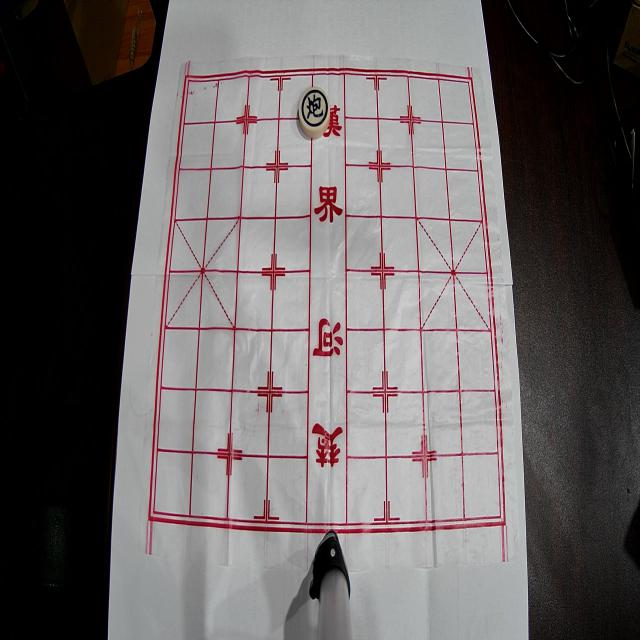black-cannon: (299, 86, 330, 138)
